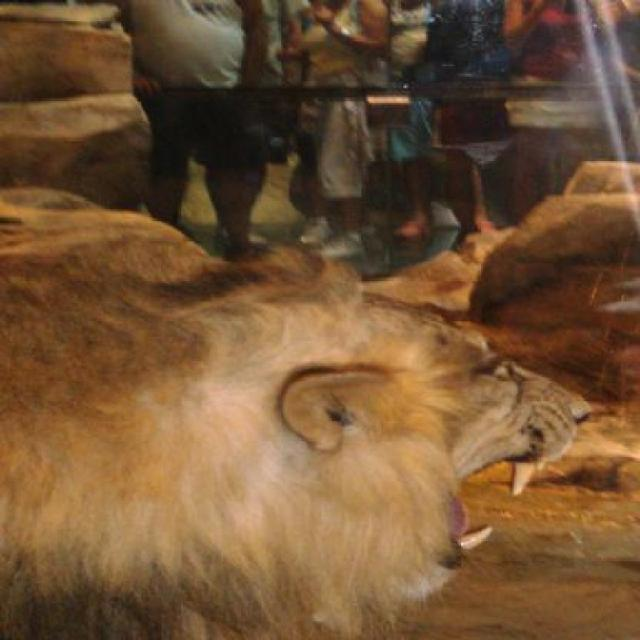Lion: (2, 178, 603, 638)
